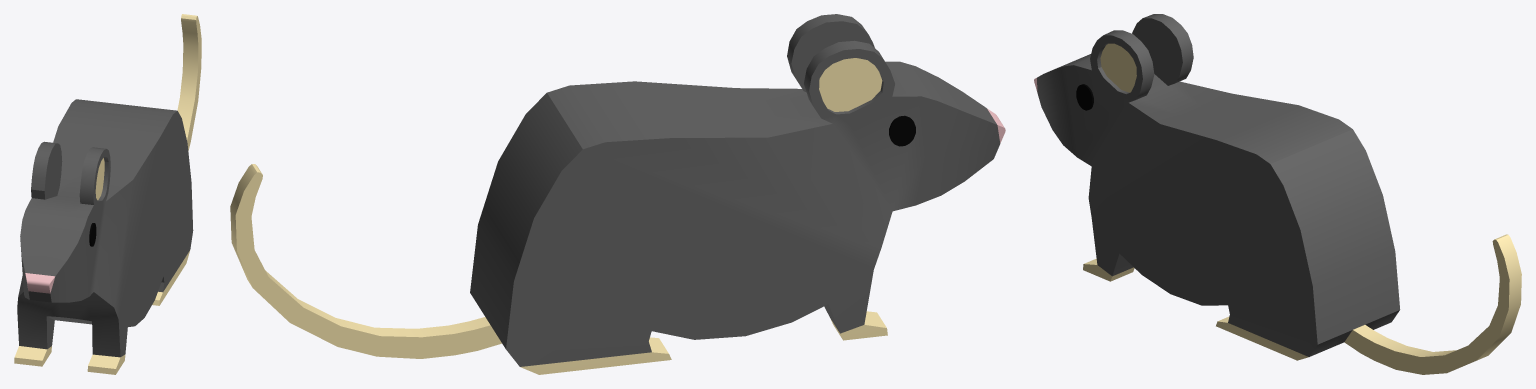
File: rat.gltf
The picture shows the model from 3 angles, left to right: view 1: azimuth 30°, elevation 25°; view 2: azimuth 150°, elevation 25°; view 3: azimuth 270°, elevation 25°; orthographic projection. The views are drawn at different scales.
Parts seen in each view (by area): view 1: Plane.139; view 2: Plane.139, Circle.1916; view 3: Plane.139.
Boxes of the visible parts, x1,y1,x2,y2 form: Plane.139: (14, 14, 201, 374); Plane.139: (230, 14, 1005, 374); Circle.1916: (889, 115, 915, 146); Plane.139: (1034, 14, 1521, 374).
Bounding box in the file's own units: 2.4 × 1.27 × 2.4.
1 material, 1 textured.
